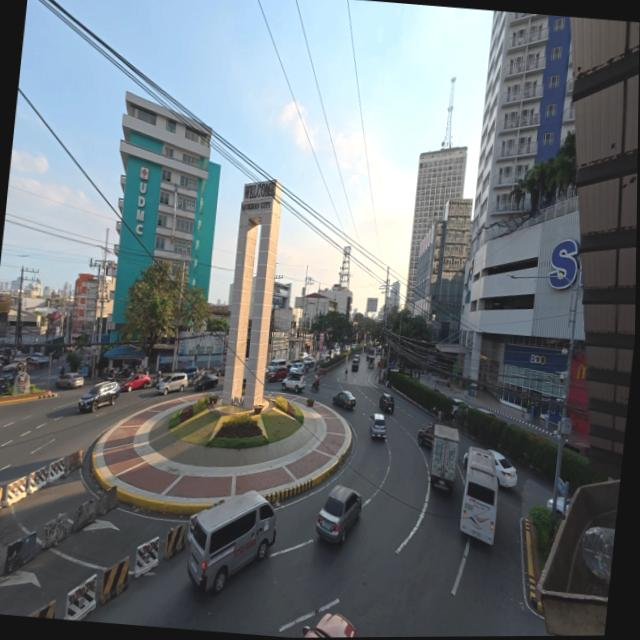bus: (461, 447, 498, 544)
car: (316, 485, 362, 542), (303, 613, 357, 637), (78, 382, 119, 412), (489, 450, 517, 487), (490, 450, 517, 487), (156, 372, 187, 395), (120, 373, 150, 392), (56, 373, 83, 389), (564, 441, 589, 458), (195, 373, 218, 391), (282, 374, 305, 392), (333, 391, 355, 409), (417, 424, 435, 446), (371, 413, 386, 438), (181, 366, 200, 383), (379, 393, 394, 413), (267, 367, 287, 382), (452, 399, 468, 416), (477, 407, 498, 418), (556, 497, 565, 519), (288, 363, 305, 374), (287, 359, 301, 371), (214, 367, 226, 376), (31, 353, 43, 360), (351, 361, 359, 371), (301, 353, 309, 360), (368, 360, 374, 368), (351, 344, 356, 349)
motorcycle: (311, 381, 320, 392), (58, 364, 65, 378)
trucks: (430, 424, 459, 489)
vans: (188, 492, 276, 593), (266, 357, 286, 374)
